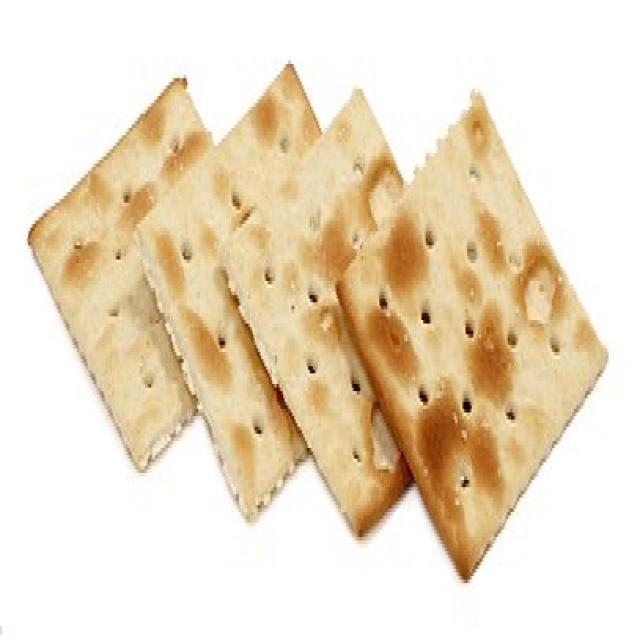Cracker: (337, 89, 609, 579), (138, 60, 362, 530), (225, 85, 435, 555), (30, 71, 239, 480)
